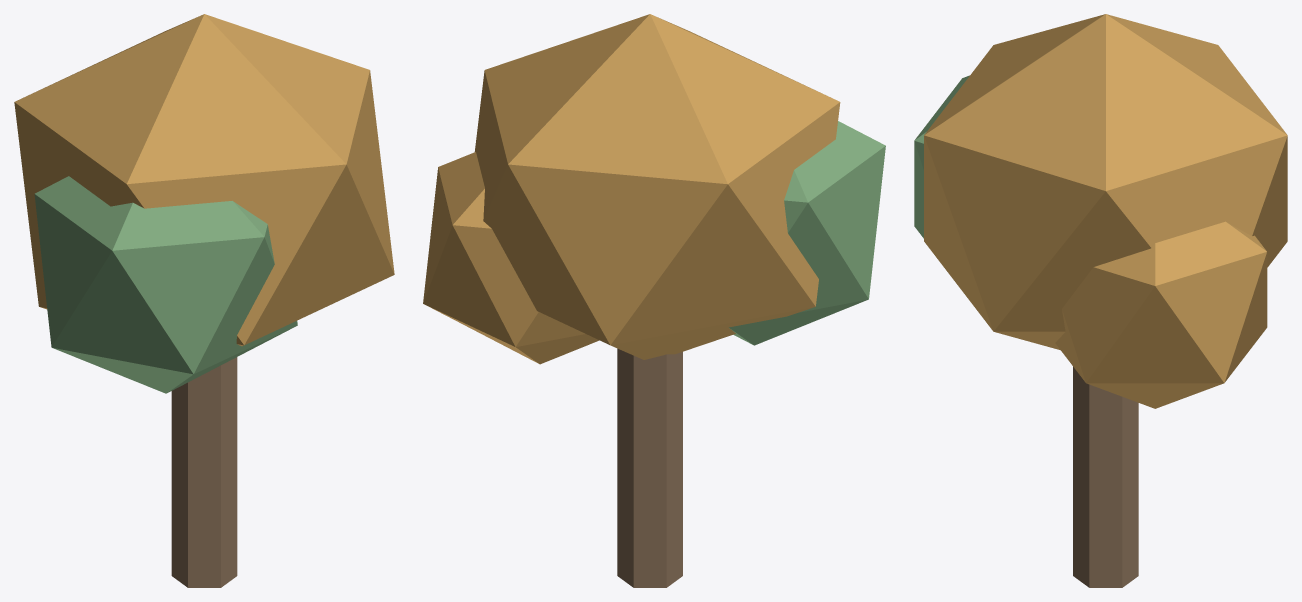
Rendered from Agac_Yuvarlak_Sonbahar.glb.
3 views of the same model, side by side, from view 1: azimuth 30°, elevation 25°; view 2: azimuth 150°, elevation 25°; view 3: azimuth 270°, elevation 25° (orthographic).
Visible parts, largest first — view 1: Agac_Yuvarlak_Sonbahar; view 2: Agac_Yuvarlak_Sonbahar; view 3: Agac_Yuvarlak_Sonbahar.
Part boxes in pixels (x1,y1,x2,y2): Agac_Yuvarlak_Sonbahar: (14,14,394,587); Agac_Yuvarlak_Sonbahar: (423,14,885,587); Agac_Yuvarlak_Sonbahar: (914,14,1287,587).
Size of the model in its own units: 2.36 by 3.39 by 2.04.
